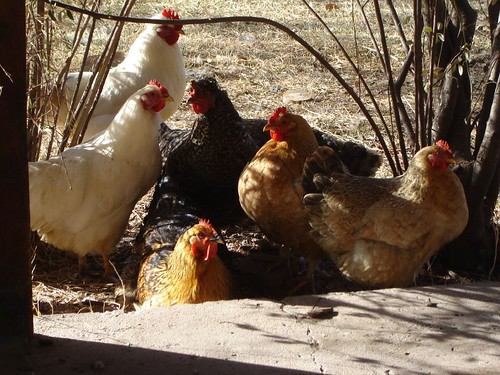chicken: (15, 82, 172, 270), (305, 139, 471, 281), (44, 8, 194, 142), (233, 107, 345, 256), (144, 188, 239, 313), (172, 77, 258, 212)
